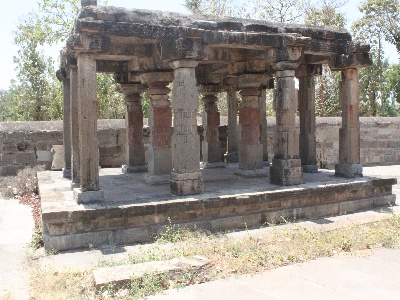mandapa: (39, 19, 368, 174)
